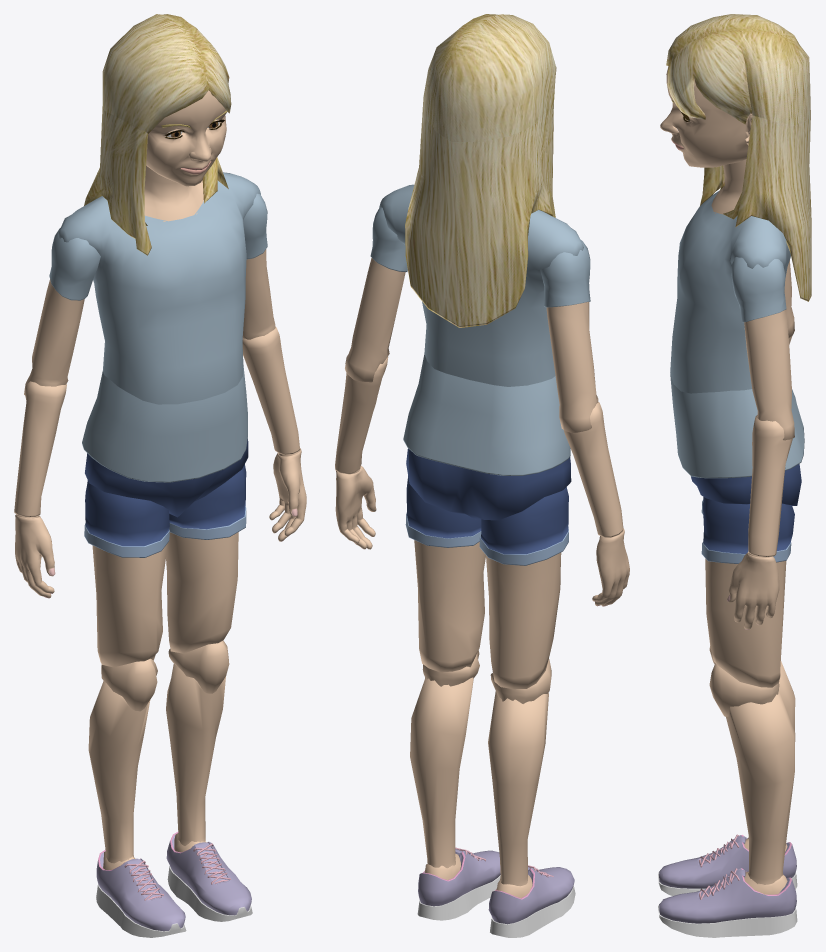
File: sweethome3d-scopia-mannequin-girl.glb
3 views of the same model, side by side, from view 1: azimuth 30°, elevation 25°; view 2: azimuth 150°, elevation 25°; view 3: azimuth 270°, elevation 25° (orthographic).
Parts seen in each view (by area): view 1: sweethome3d_mannequin_chest_chest, sweethome3d_mannequin_head_head, sweethome3d_mannequin_pelvis_pelvis, sweethome3d_mannequin_right_thigh_rightThigh, sweethome3d_mannequin_left_thigh_leftThigh, sweethome3d_mannequin_right_leg_rightLeg, sweethome3d_mannequin_left_leg_leftLeg, sweethome3d_mannequin_right_arm_rightArm, sweethome3d_mannequin_right_foot_rightFoot, sweethome3d_mannequin_left_foot_leftFoot, sweethome3d_mannequin_right_forearm_rightForearm, sweethome3d_mannequin_left_forearm_left_forearm (+5 smaller); view 2: sweethome3d_mannequin_head_head, sweethome3d_mannequin_pelvis_pelvis, sweethome3d_mannequin_right_thigh_rightThigh, sweethome3d_mannequin_chest_chest, sweethome3d_mannequin_left_thigh_leftThigh, sweethome3d_mannequin_left_leg_leftLeg, sweethome3d_mannequin_right_leg_rightLeg, sweethome3d_mannequin_right_arm_rightArm, sweethome3d_mannequin_left_arm_left_arm, sweethome3d_mannequin_right_foot_rightFoot, sweethome3d_mannequin_left_foot_leftFoot, sweethome3d_mannequin_right_forearm_rightForearm (+5 smaller); view 3: sweethome3d_mannequin_head_head, sweethome3d_mannequin_chest_chest, sweethome3d_mannequin_left_thigh_leftThigh, sweethome3d_mannequin_pelvis_pelvis, sweethome3d_mannequin_left_leg_leftLeg, sweethome3d_mannequin_left_arm_left_arm, sweethome3d_mannequin_left_foot_leftFoot, sweethome3d_mannequin_left_forearm_left_forearm, sweethome3d_mannequin_right_foot_rightFoot, sweethome3d_mannequin_left_hand_left_hand, sweethome3d_mannequin_left_knee_leftKnee, sweethome3d_mannequin_right_leg_rightLeg (+1 smaller).
Part boxes in pixels (left/top/right/bottom): sweethome3d_mannequin_chest_chest: left=58, top=165, right=260, bottom=404; sweethome3d_mannequin_head_head: left=84, top=14, right=231, bottom=255; sweethome3d_mannequin_pelvis_pelvis: left=82, top=365, right=248, bottom=517; sweethome3d_mannequin_right_thigh_rightThigh: left=84, top=480, right=169, bottom=667; sweethome3d_mannequin_left_thigh_leftThigh: left=166, top=464, right=246, bottom=653; sweethome3d_mannequin_right_leg_rightLeg: left=88, top=681, right=150, bottom=863; sweethome3d_mannequin_left_leg_leftLeg: left=166, top=664, right=225, bottom=845; sweethome3d_mannequin_right_arm_rightArm: left=24, top=228, right=100, bottom=395; sweethome3d_mannequin_right_foot_rightFoot: left=96, top=850, right=186, bottom=937; sweethome3d_mannequin_left_foot_leftFoot: left=166, top=831, right=252, bottom=921; sweethome3d_mannequin_right_forearm_rightForearm: left=14, top=381, right=66, bottom=517; sweethome3d_mannequin_left_forearm_left_forearm: left=242, top=326, right=300, bottom=454; sweethome3d_mannequin_head_head: left=405, top=14, right=556, bottom=327; sweethome3d_mannequin_pelvis_pelvis: left=403, top=354, right=571, bottom=520; sweethome3d_mannequin_right_thigh_rightThigh: left=479, top=487, right=568, bottom=689; sweethome3d_mannequin_chest_chest: left=379, top=184, right=583, bottom=386; sweethome3d_mannequin_left_thigh_leftThigh: left=405, top=476, right=485, bottom=672; sweethome3d_mannequin_left_leg_leftLeg: left=410, top=677, right=473, bottom=868; sweethome3d_mannequin_right_leg_rightLeg: left=488, top=691, right=548, bottom=886; sweethome3d_mannequin_right_arm_rightArm: left=540, top=240, right=598, bottom=433; sweethome3d_mannequin_left_arm_left_arm: left=345, top=207, right=407, bottom=382; sweethome3d_mannequin_right_foot_rightFoot: left=488, top=865, right=575, bottom=937; sweethome3d_mannequin_left_foot_leftFoot: left=417, top=847, right=500, bottom=920; sweethome3d_mannequin_right_forearm_rightForearm: left=564, top=402, right=623, bottom=537; sweethome3d_mannequin_head_head: left=660, top=14, right=811, bottom=301; sweethome3d_mannequin_chest_chest: left=670, top=159, right=790, bottom=393; sweethome3d_mannequin_left_thigh_leftThigh: left=701, top=498, right=794, bottom=687; sweethome3d_mannequin_pelvis_pelvis: left=670, top=374, right=804, bottom=505; sweethome3d_mannequin_left_leg_leftLeg: left=726, top=691, right=795, bottom=884; sweethome3d_mannequin_left_arm_left_arm: left=731, top=257, right=794, bottom=440; sweethome3d_mannequin_left_foot_leftFoot: left=658, top=868, right=797, bottom=937; sweethome3d_mannequin_left_forearm_left_forearm: left=748, top=415, right=792, bottom=556; sweethome3d_mannequin_right_foot_rightFoot: left=658, top=834, right=797, bottom=895; sweethome3d_mannequin_left_hand_left_hand: left=727, top=552, right=779, bottom=629; sweethome3d_mannequin_left_knee_leftKnee: left=709, top=663, right=779, bottom=716; sweethome3d_mannequin_right_leg_rightLeg: left=748, top=661, right=795, bottom=838.
Bounding box in the file's own units: 49.08 × 147 × 22.91.
Materials: 55 (6 with a texture image).
